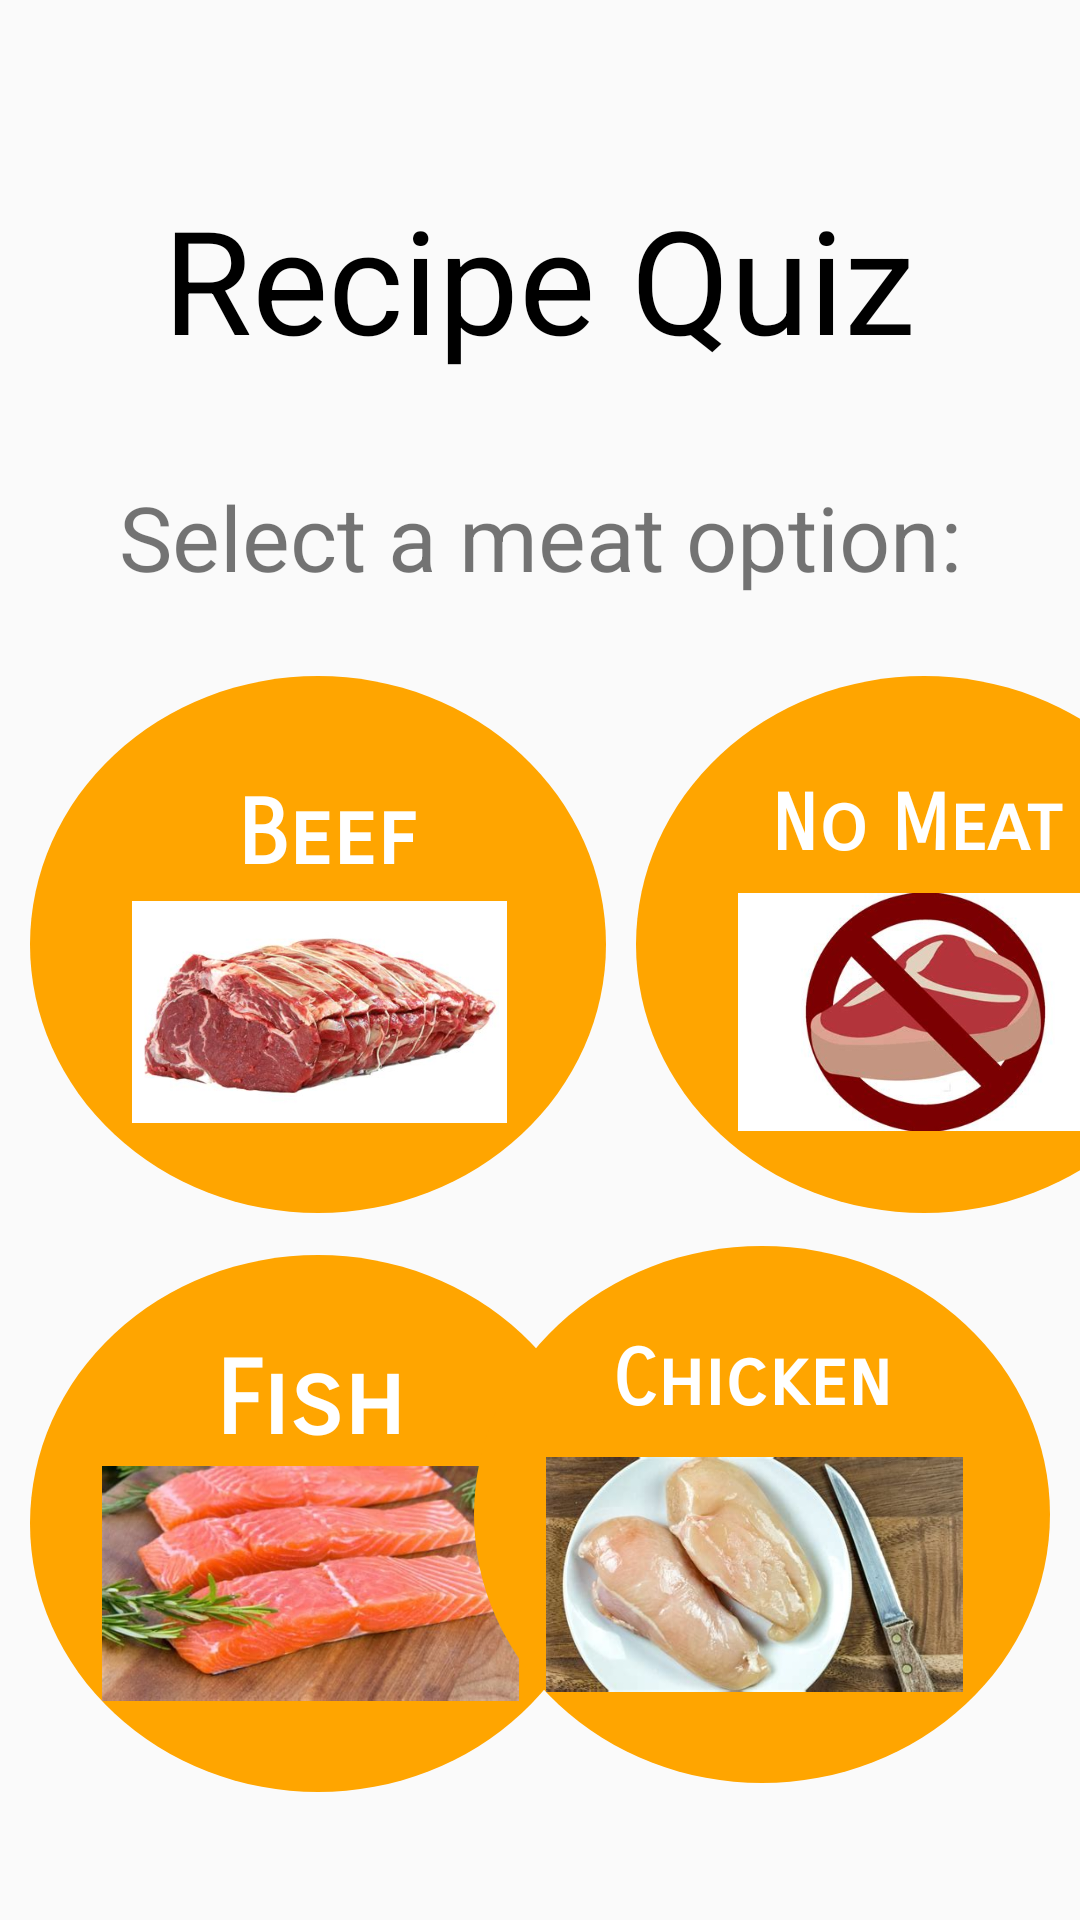

Named icons in this screenshot (1080 x 1920) and their bounding boxes, (x1, y1, x2, y2):
none: (738, 893, 1080, 1131)
